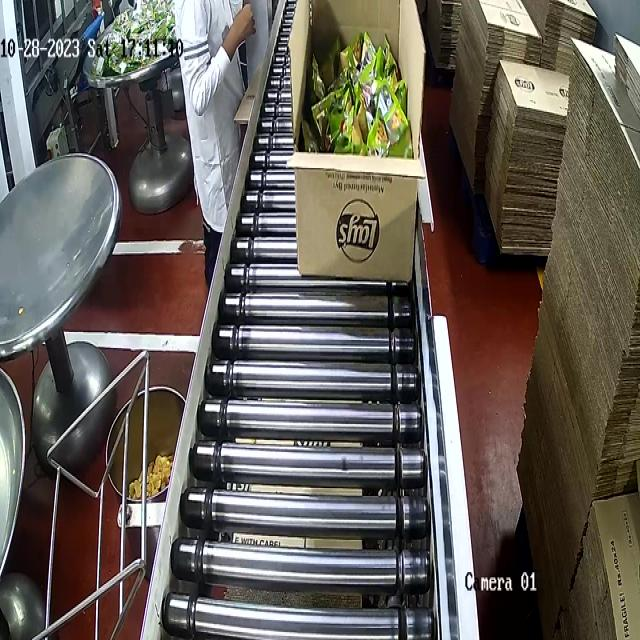YOGURT_HERB: (306, 25, 414, 159)
